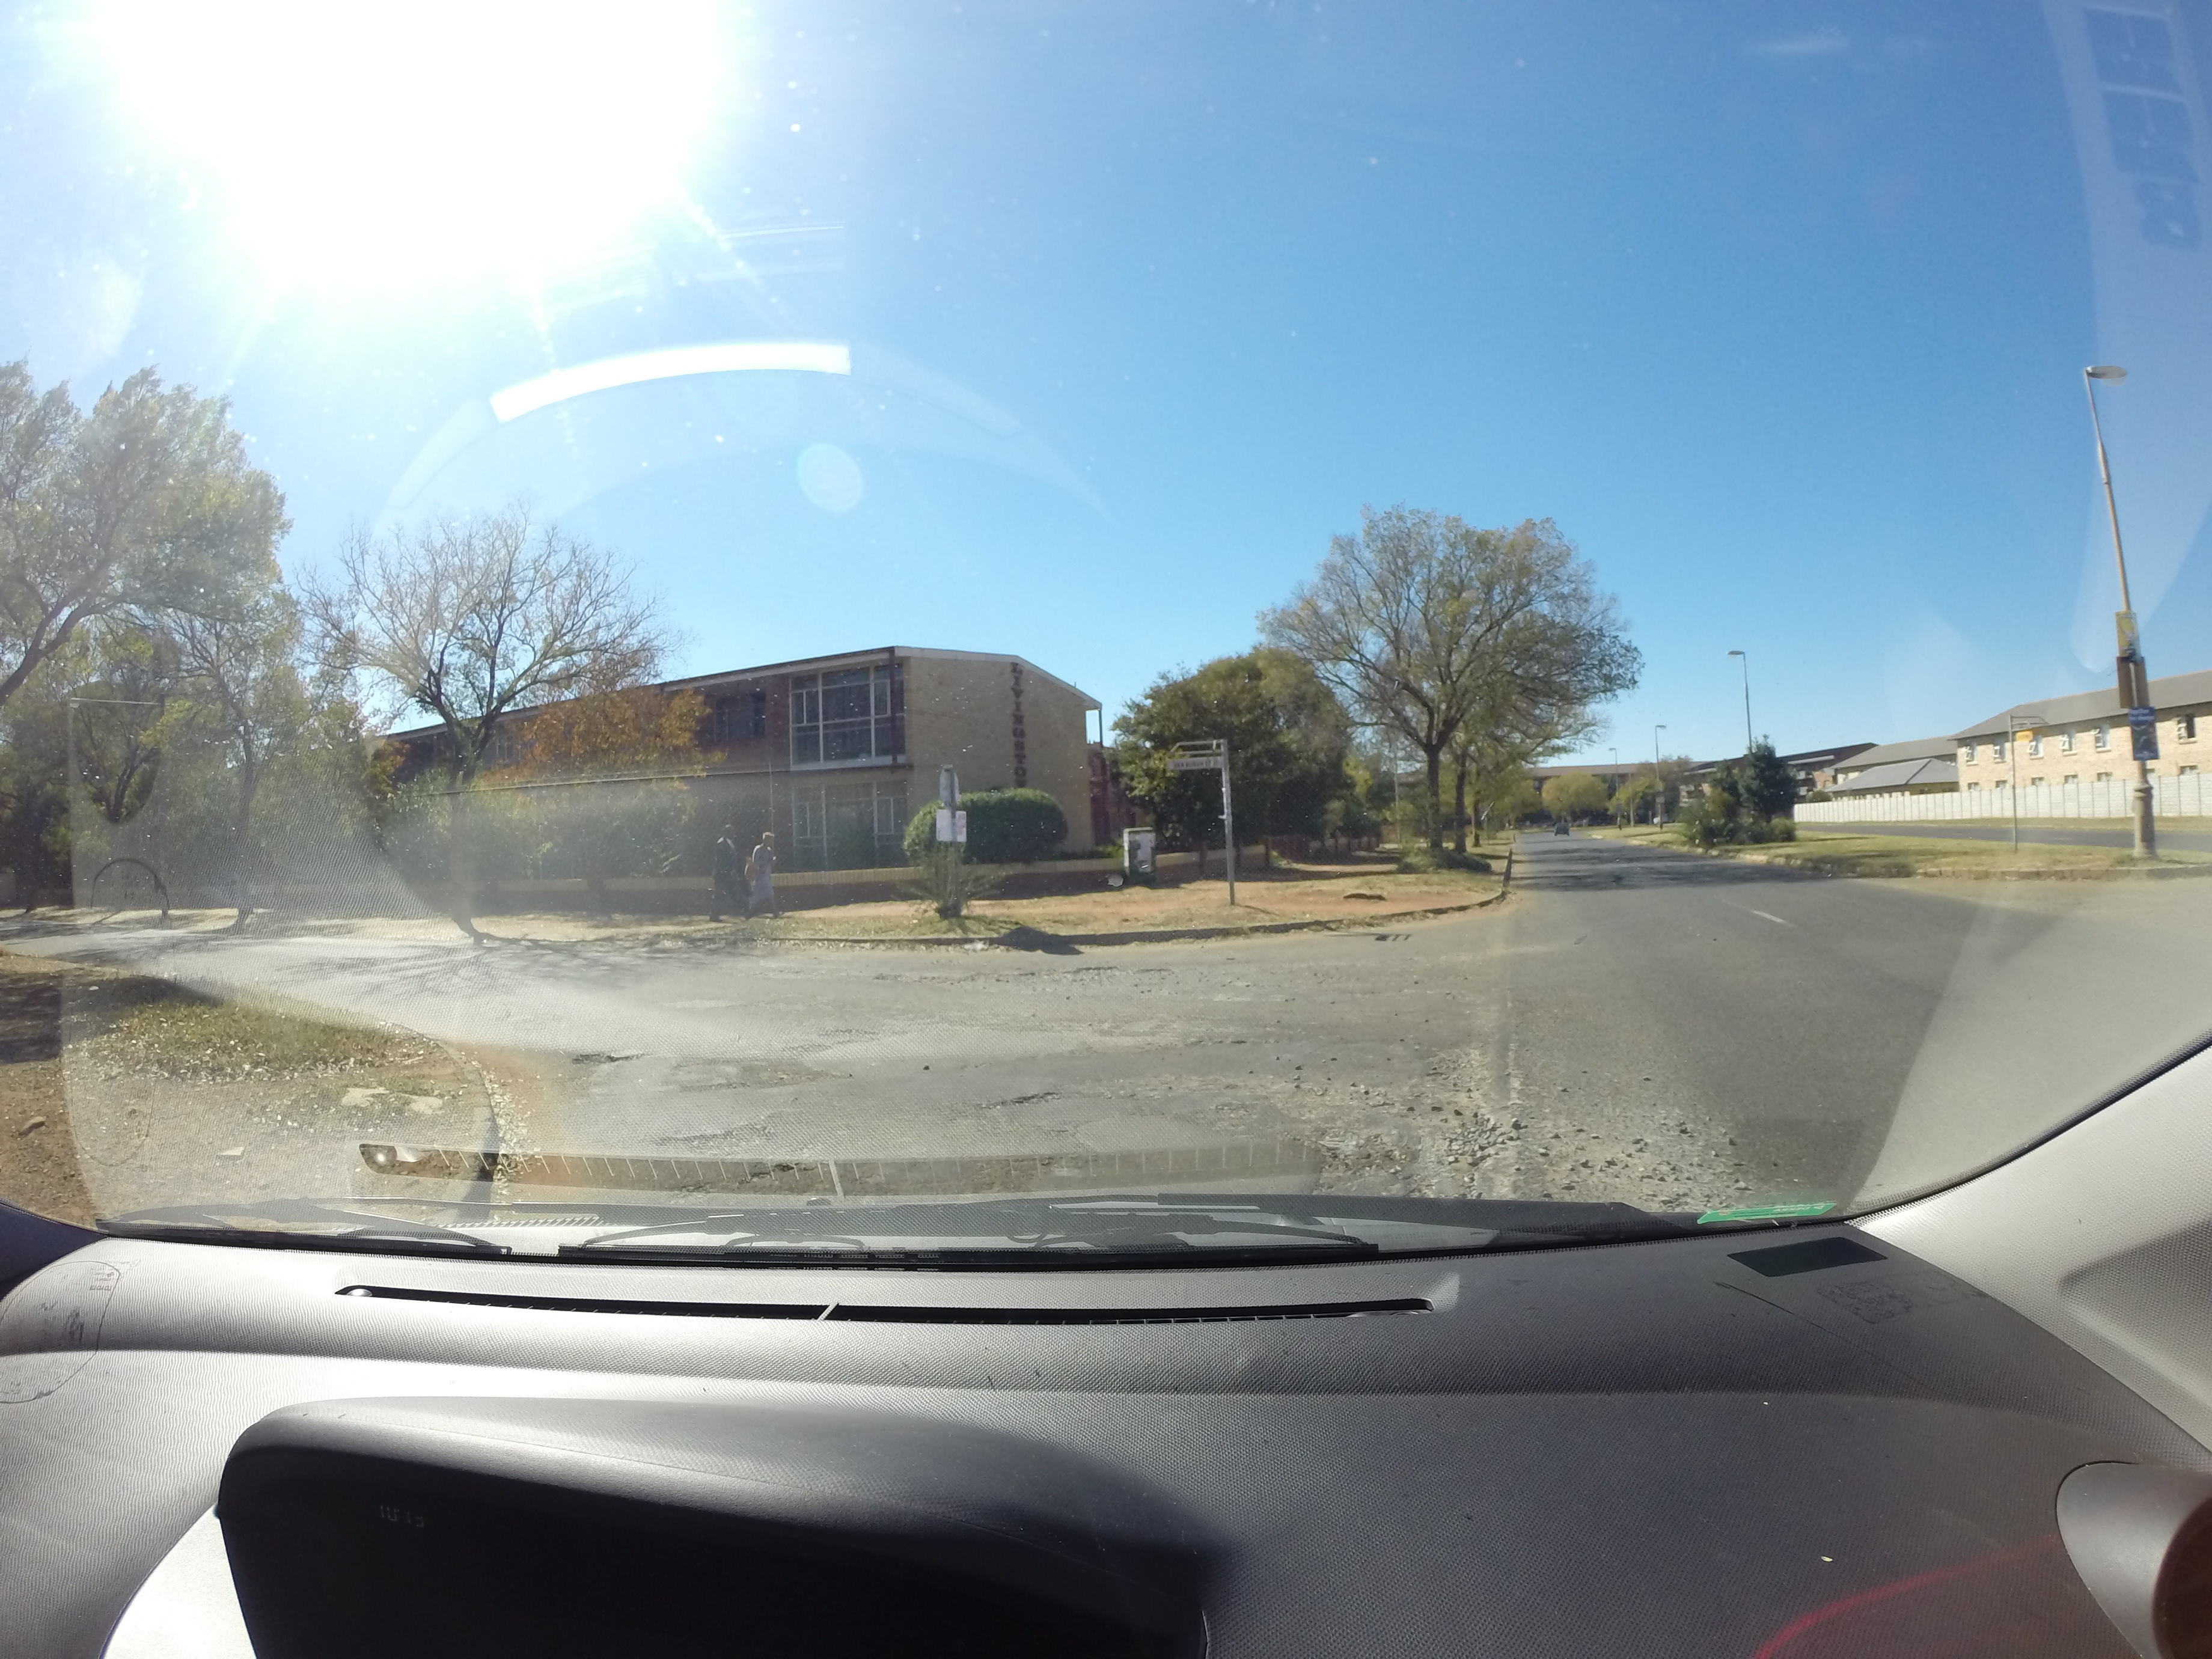pothole: (536, 995, 860, 1122), (1397, 1051, 1634, 1183)
